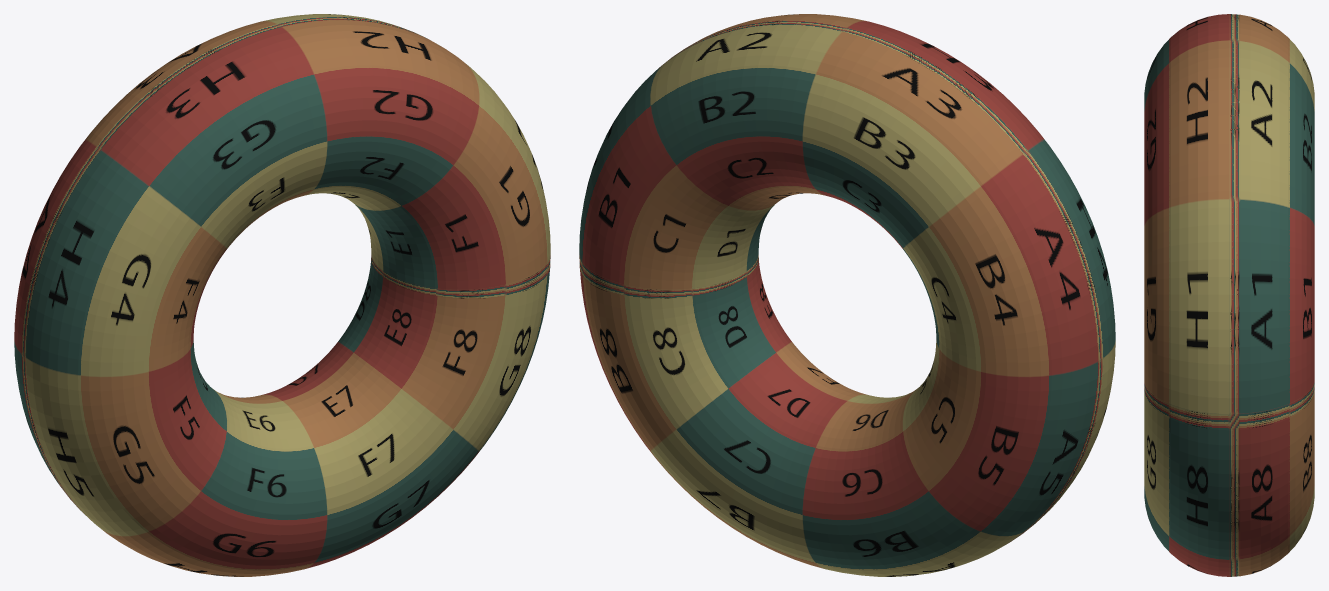
The model's file is texture_torus_R4_r7.glb.
3 views of the same model, side by side, from view 1: azimuth 30°, elevation 25°; view 2: azimuth 150°, elevation 25°; view 3: azimuth 270°, elevation 25° (orthographic). The views are drawn at different scales.
Parts seen in each view (by area): view 1: world; view 2: world; view 3: world.
Part boxes in pixels (x1,y1,x2,y2): world: [14, 14, 550, 576]; world: [579, 14, 1115, 576]; world: [1144, 14, 1314, 576].
Bounding box in the file's own units: 27.11 × 27.11 × 8.21.
1 material, 1 textured.
